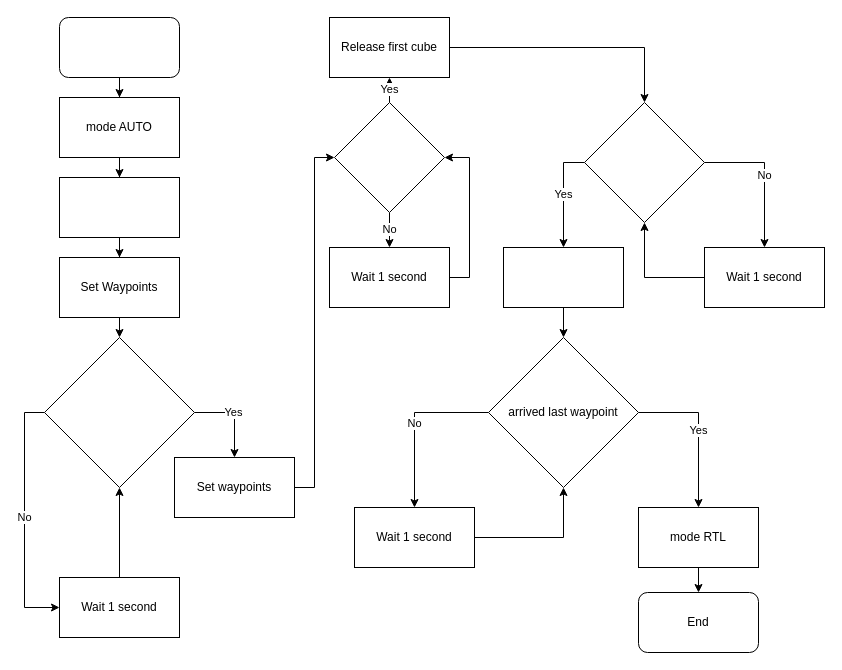
This 842x670 diagram has some shape labels left out. The shapes that lost their labels are listed below. From the top down, each one's centre as x and y in pixels, then its label:
[119,47]: Start
[389,157]: arrived area1
[644,162]: arrive area2
[119,207]: arm throttle
[563,277]: Release second cube
[119,412]: Arrived last waypoinf
